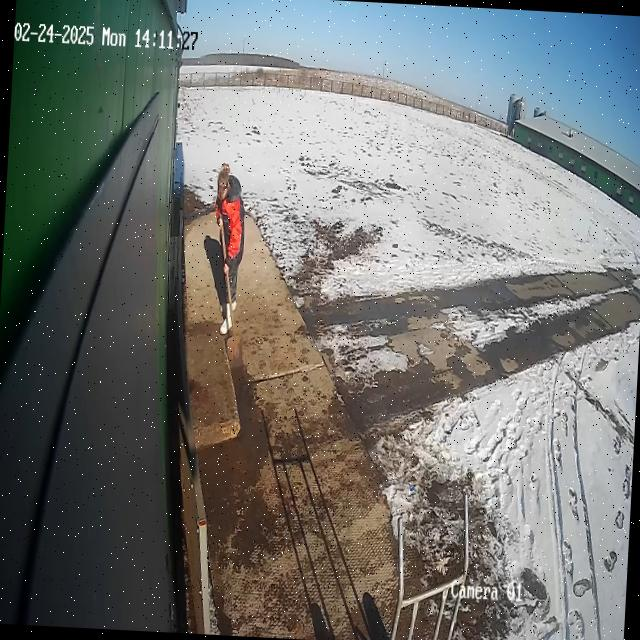Red uniform: (206, 160, 250, 338)
